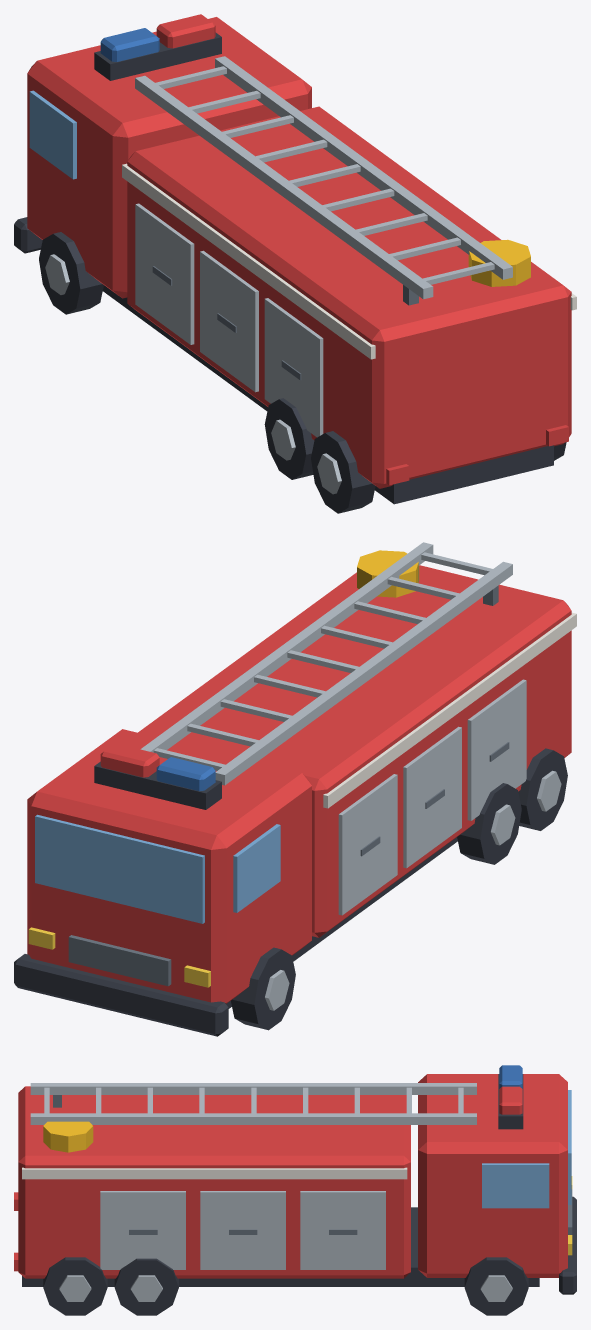
The model's file is caminhao_bombeiros.glb.
The picture shows the model from 3 angles, top to bottom: view 1: azimuth 30°, elevation 25°; view 2: azimuth 150°, elevation 25°; view 3: azimuth 270°, elevation 25°; orthographic projection. The views are drawn at different scales.
Visible parts, largest first — view 1: corpo; view 2: corpo; view 3: corpo.
Part boxes in pixels (x1,y1,x2,y2): corpo: (14,14,576,513); corpo: (14,542,576,1036); corpo: (14,1065,576,1315).
Size of the model in its own units: 0.56 by 0.5906 by 1.58.
